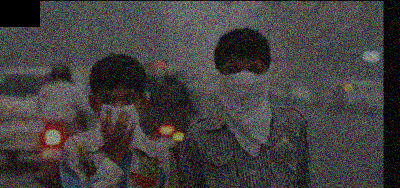with_mask: (220, 61, 268, 103), (95, 90, 141, 132)
